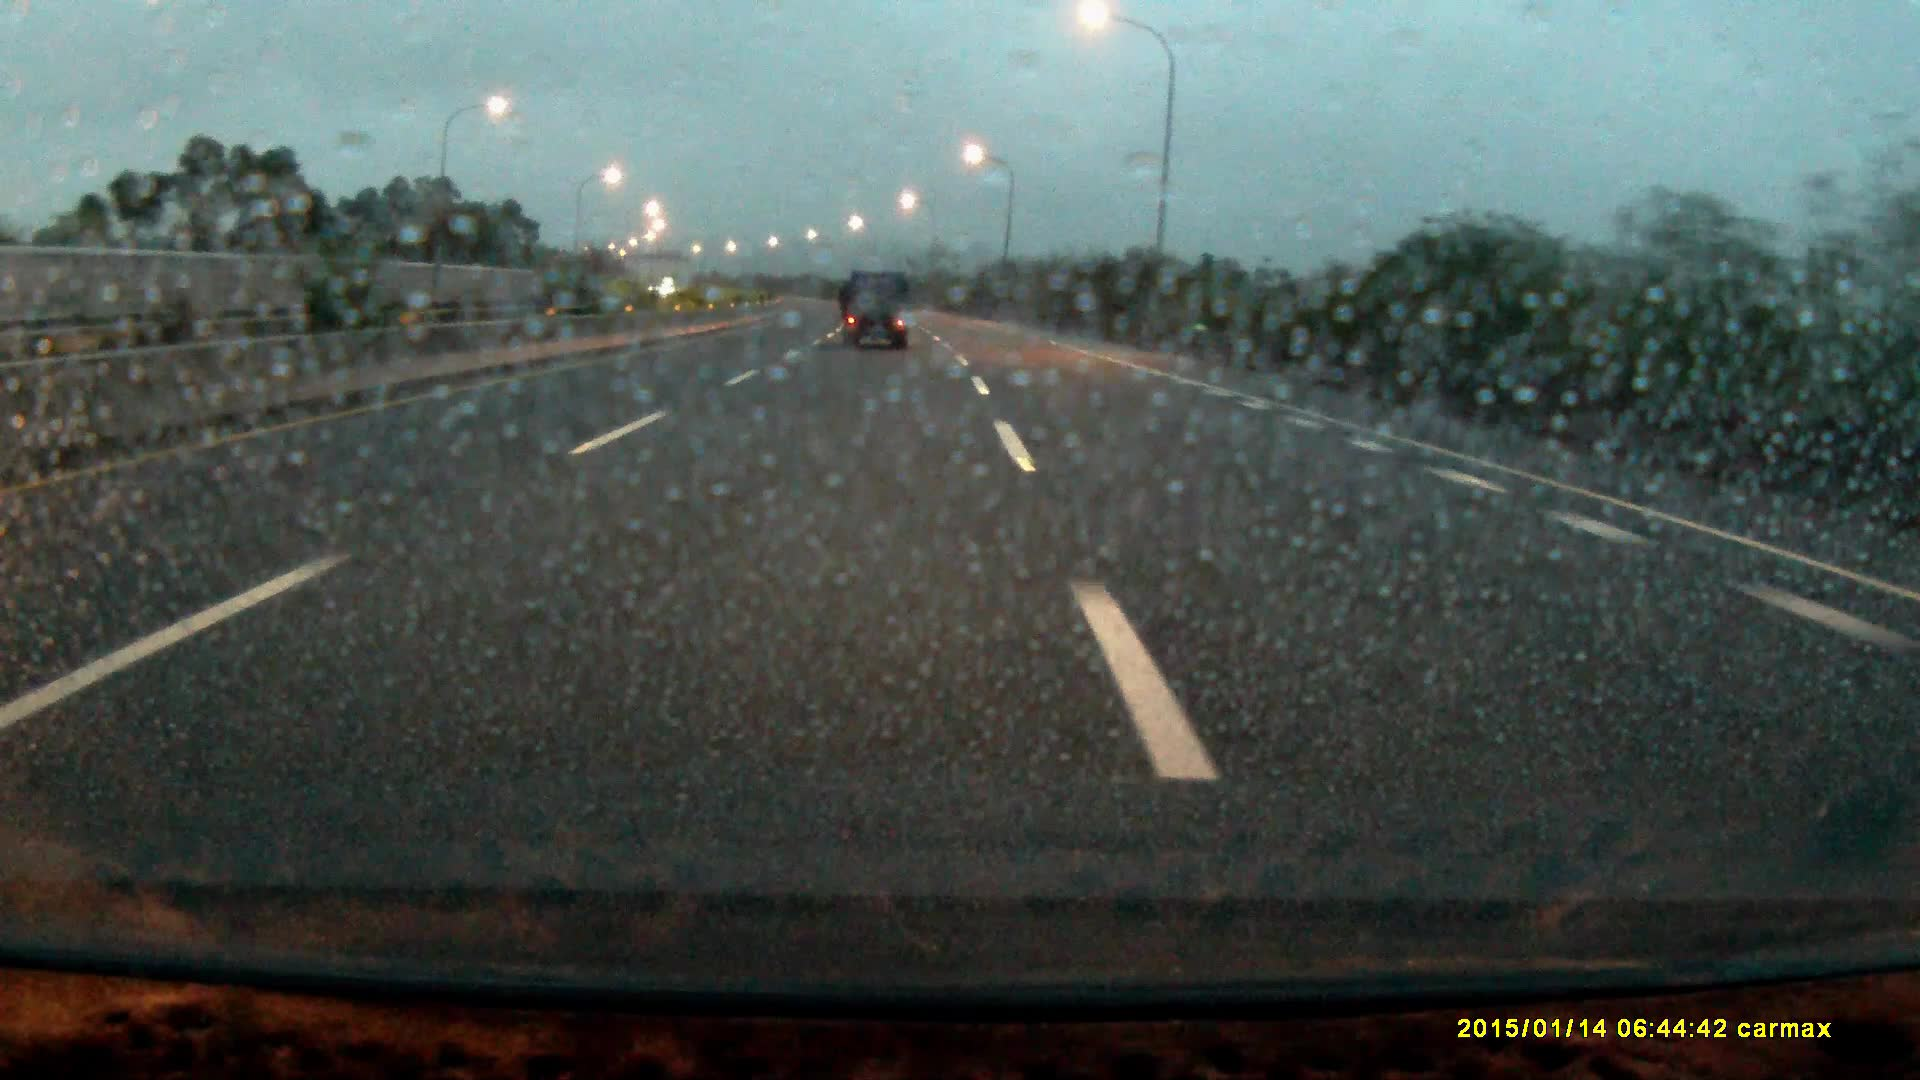vehicle: (840, 270, 910, 357)
